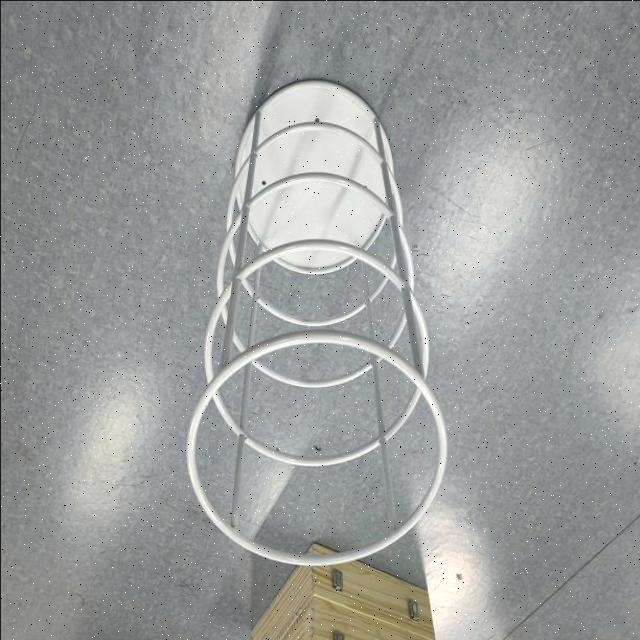S: (180, 64, 450, 572)
